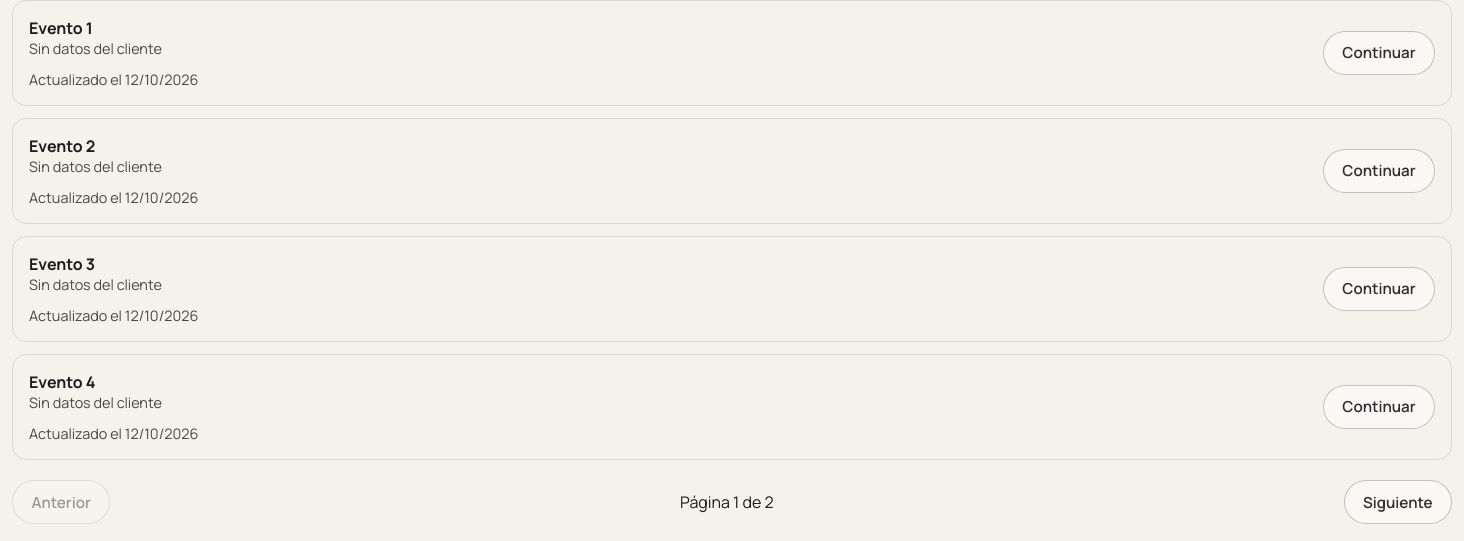
it: EventHistory › muestra cuatro eventos por página y permite navegar
Expected: the number of list items is 4, [12,0,1452,106]; [12,118,1452,224]; [12,236,1452,342]; [12,354,1452,460]
Expected: the heading "Evento 1" is shown, [29,17,93,39]
Click the button "Siguiente" at (1398, 502), box [1344,480,1452,524]
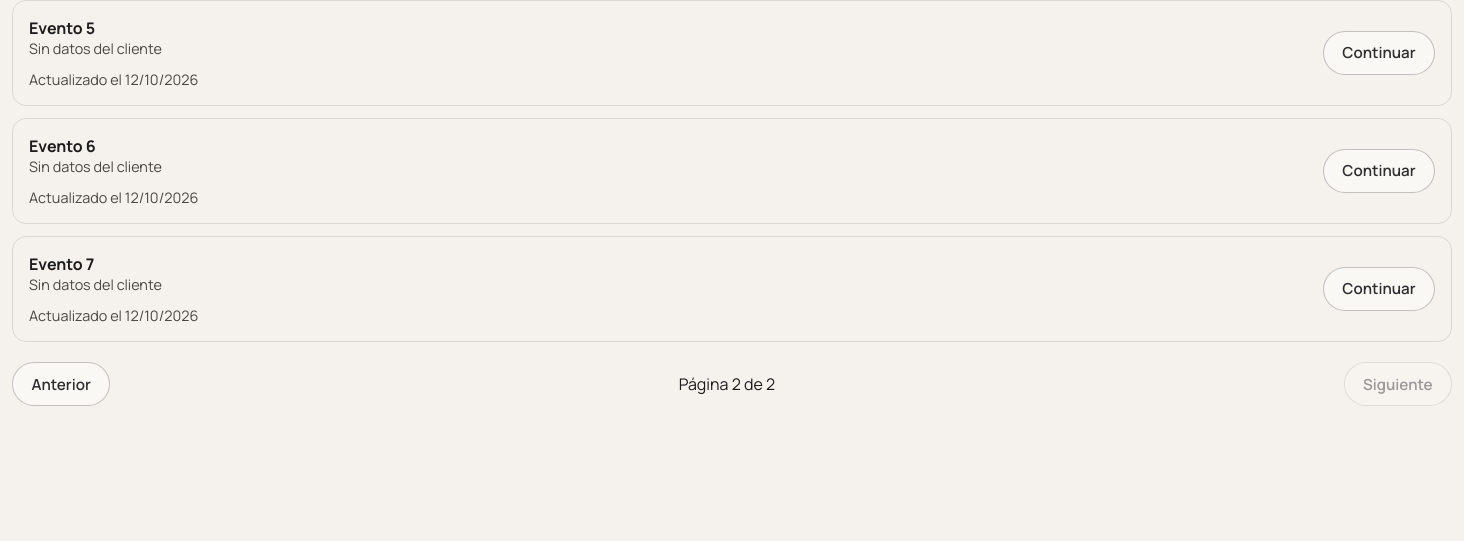
Expected: the number of list items is 3, [12,0,1452,106]; [12,118,1452,224]; [12,236,1452,342]
Expected: the heading "Evento 5" is shown, [29,17,95,39]
Expected: the heading "Evento 1" is gone
